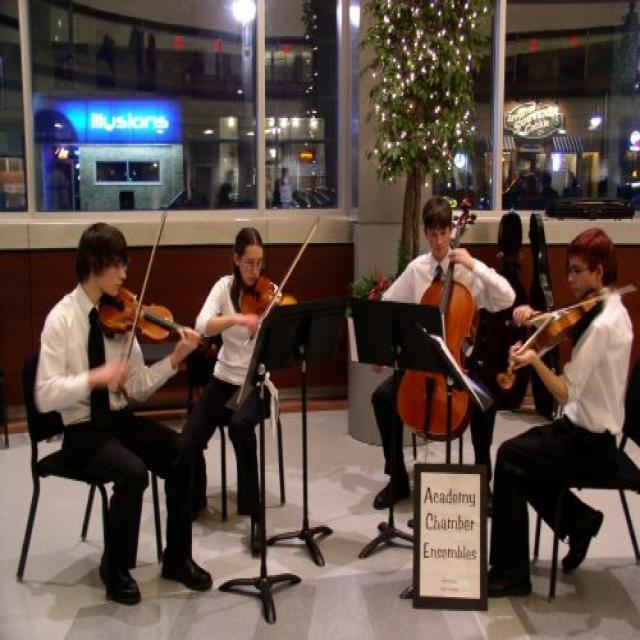cello: (396, 196, 484, 440)
violin: (496, 299, 597, 390), (100, 285, 206, 350), (240, 276, 286, 316)
